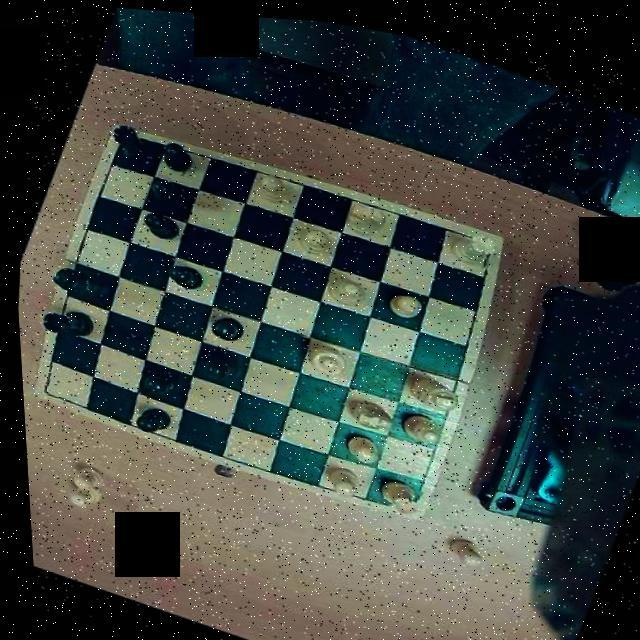chess-table-corners: (456, 222, 502, 264), (380, 474, 424, 516), (102, 122, 142, 158), (27, 369, 63, 401)
